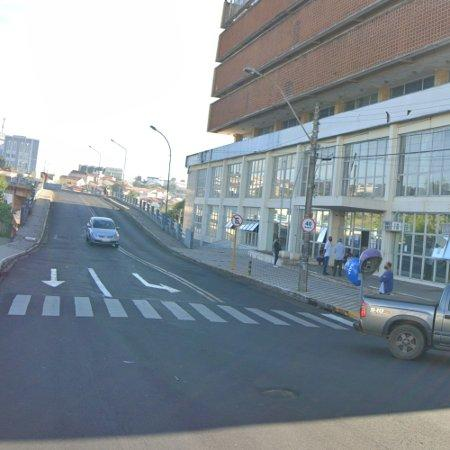crosswalks: (4, 292, 356, 327)
